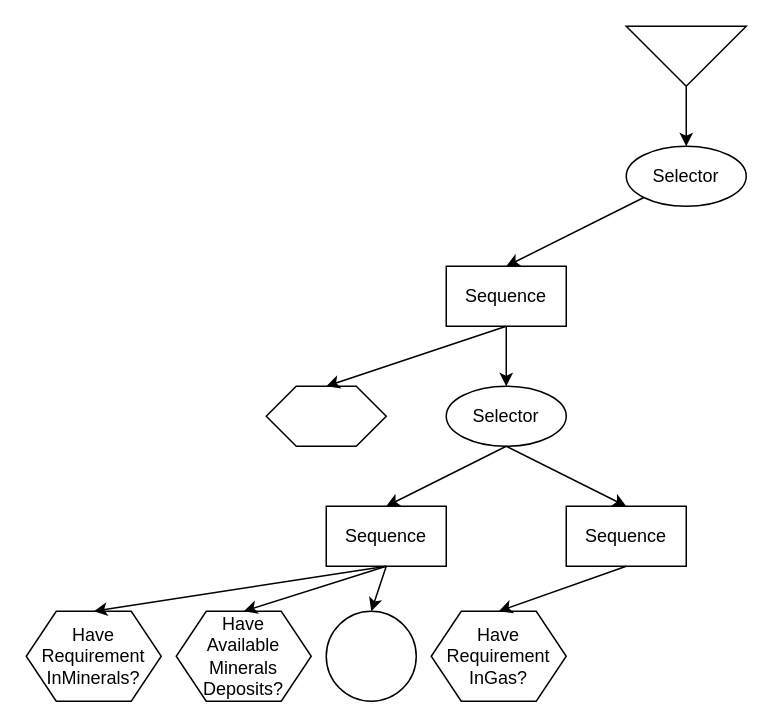
Some shapes in this 773 by 728 pixel diagram are drawn without their labels. Each missing label, with the centre of its shape:
GoGather Minerals: pixel 370 655
IsIdle?: pixel 325 415
Root: pixel 685 55
